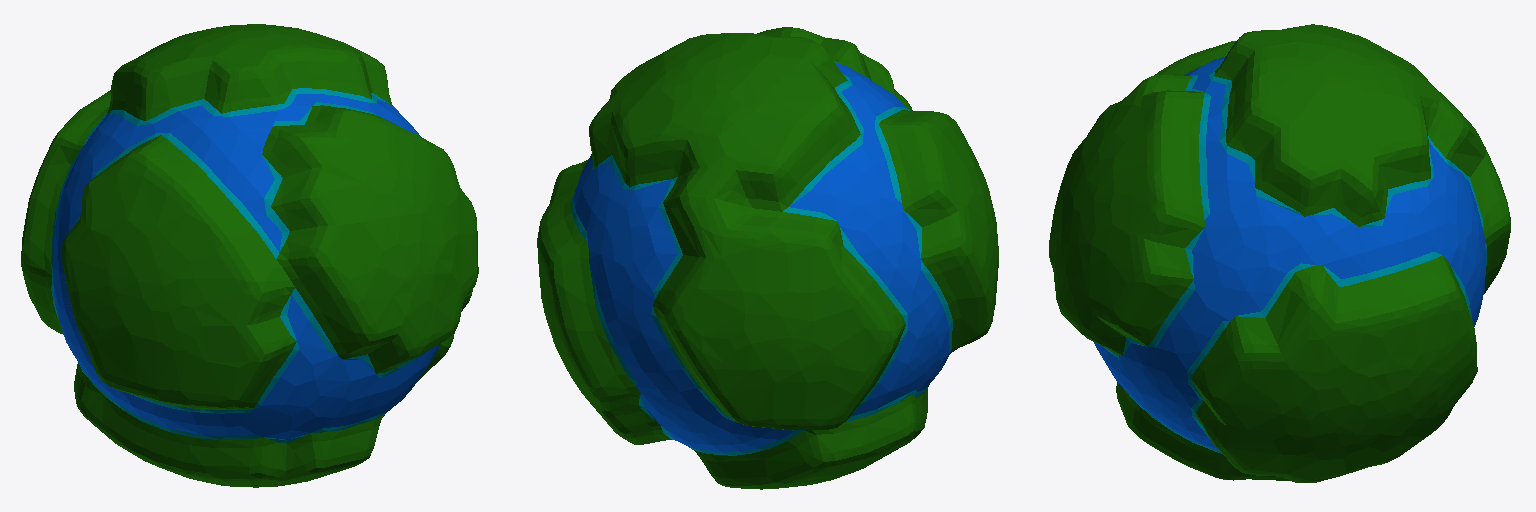
File: Planet.obj
The picture shows the model from 3 angles: view 1: azimuth 30°, elevation 25°; view 2: azimuth 150°, elevation 25°; view 3: azimuth 270°, elevation 25°; orthographic projection.
Parts seen in each view (by area): view 1: Icosphere_Icosphere.001; view 2: Icosphere_Icosphere.001; view 3: Icosphere_Icosphere.001.
Boxes of the visible parts, x1,y1,x2,y2 form: Icosphere_Icosphere.001: [21, 24, 478, 487]; Icosphere_Icosphere.001: [537, 27, 998, 489]; Icosphere_Icosphere.001: [1049, 24, 1510, 482].
Bounding box in the file's own units: 4.47 × 4.51 × 4.49.